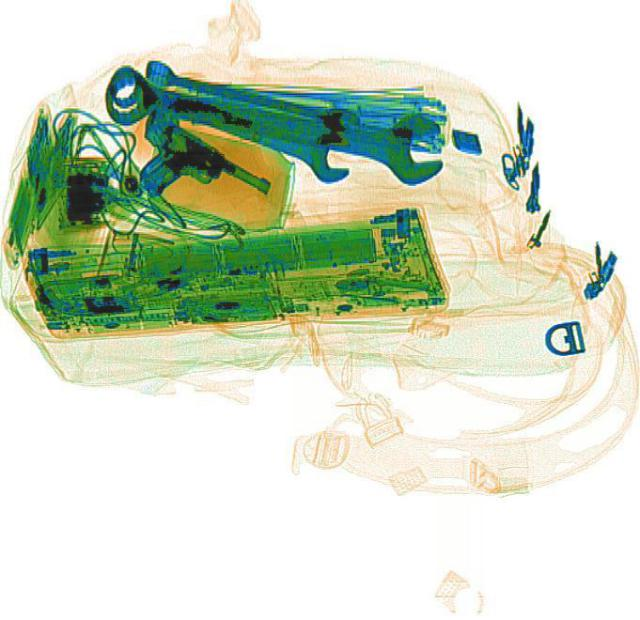Gun: (110, 104, 274, 235)
Wrench: (95, 52, 453, 189), (98, 60, 360, 187)
